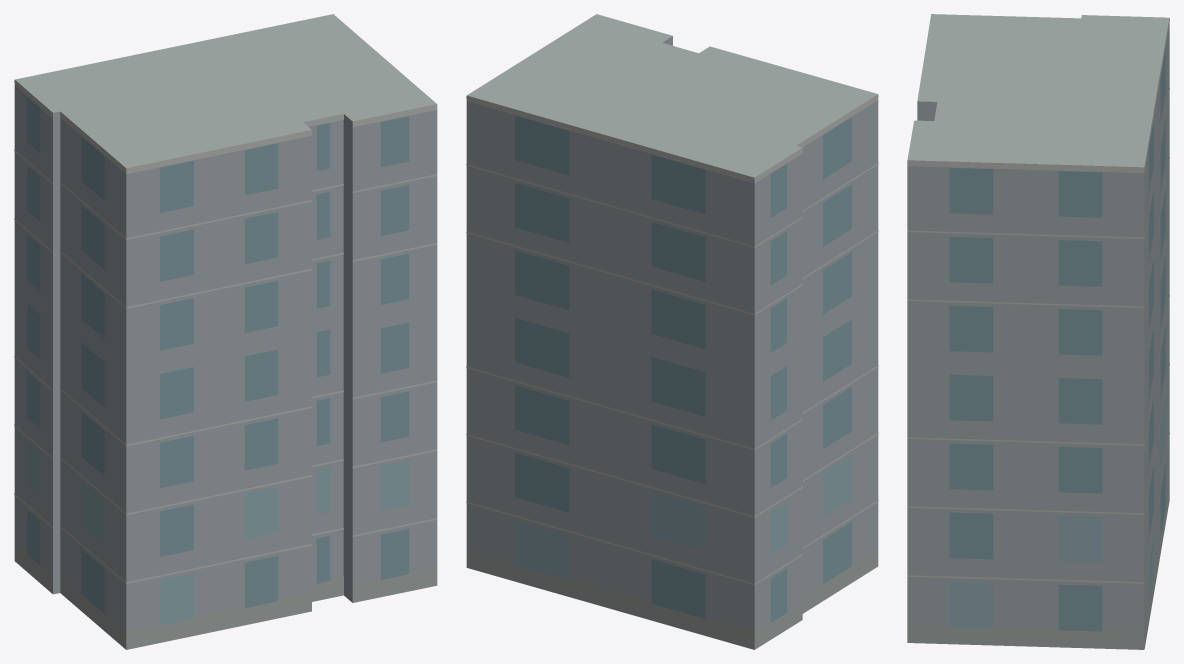
Rendered from survey-upis-32967085.glb.
3 renders of one model, left to right at view 1: azimuth 30°, elevation 25°; view 2: azimuth 150°, elevation 25°; view 3: azimuth 270°, elevation 25°, orthographic. The views are drawn at different scales.
Parts seen in each view (by area): view 1: survey-upis-32967085.tmp; view 2: survey-upis-32967085.tmp; view 3: survey-upis-32967085.tmp.
Part boxes in pixels (box(x1,y1,x2,y2)): survey-upis-32967085.tmp: box(14, 14, 437, 649); survey-upis-32967085.tmp: box(466, 14, 878, 649); survey-upis-32967085.tmp: box(907, 14, 1169, 649).
Bounding box in the file's own units: 13.59 × 19.91 × 9.83.
